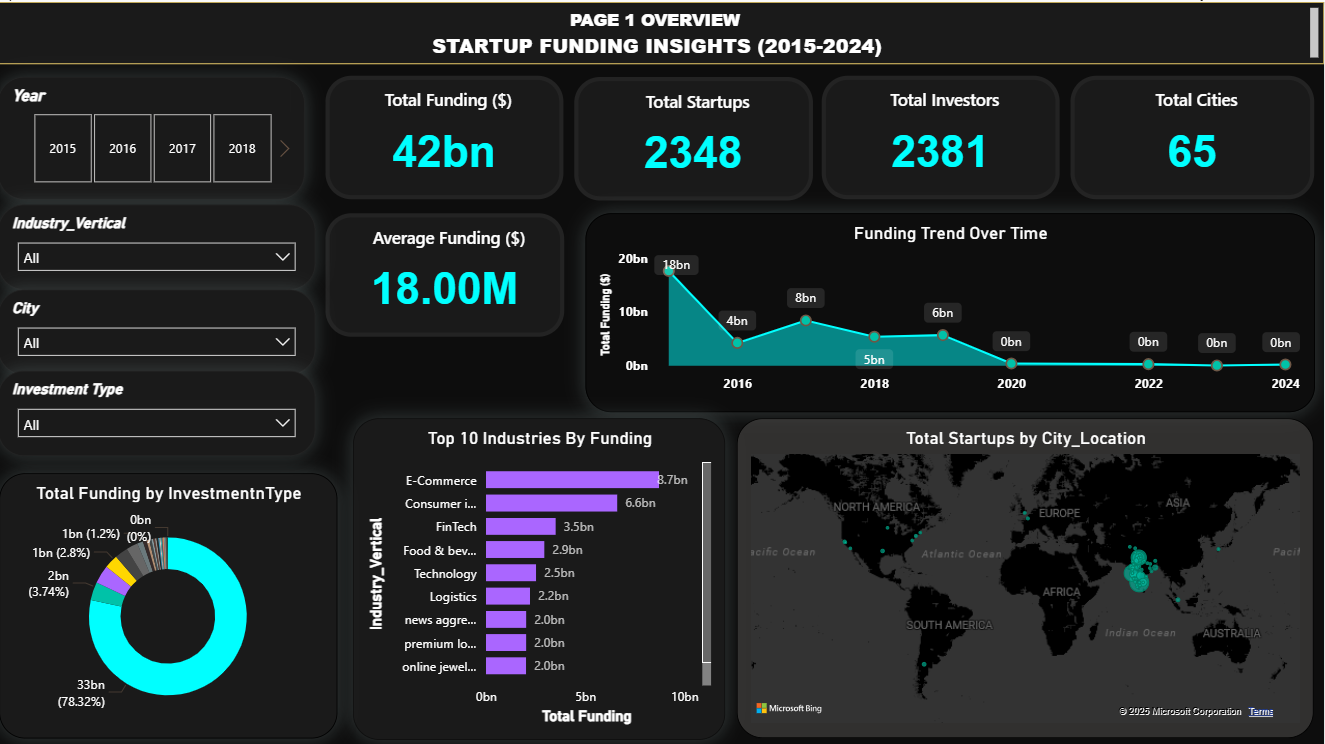

The dashboard page shown, as its layout file describes it:
{"tool":"powerbi","page":{"name":"Startup Funding Overview Dashboard","canvas":[1280,720],"ordinal":0},"visuals":[{"type":"card","title":"Total Funding ($)","fields":{"Values":["cleaned_startup_funding_2015_2024_raw.Total Funding"]},"box":[316.1,71.2,229.2,119.4],"z":0},{"type":"textbox","box":[0,0,1280.3,60.4],"z":1000},{"type":"card","title":"Total Startups","fields":{"Values":["cleaned_startup_funding_2015_2024_raw.Total Startups"]},"box":[555.7,72.7,230,119.4],"z":2000},{"type":"card","title":"Total Investors","fields":{"Values":["cleaned_startup_funding_2015_2024_raw.Total Investors"]},"box":[795,71.2,229.2,119.4],"z":3000},{"type":"card","title":"Average Funding ($)","fields":{"Values":["cleaned_startup_funding_2015_2024_raw.Avg Funding Per Startup"]},"box":[316.1,203.9,230.4,119.4],"z":4000},{"type":"card","title":"Total Cities","fields":{"Values":["cleaned_startup_funding_2015_2024_raw.Total Cities"]},"box":[1035.1,71.2,235.3,119.4],"z":5000},{"type":"lineChart","title":"Funding Trend Over Time","fields":{"Category":["DateTable.Year"],"Y":["cleaned_startup_funding_2015_2024_raw.Total Funding"]},"box":[566.7,204.5,703.9,192.1],"z":6000},{"type":"clusteredBarChart","title":"Top 10 Industries By Funding","fields":{"Category":["cleaned_startup_funding_2015_2024_raw.Industry_Vertical"],"Y":["cleaned_startup_funding_2015_2024_raw.Total Funding"]},"box":[343.1,402.1,359.5,310.1],"z":7000},{"type":"map","fields":{"Category":["cleaned_startup_funding_2015_2024_raw.City_Location"],"Size":["cleaned_startup_funding_2015_2024_raw.Total Startups"]},"box":[713.6,402.1,557.1,308.7],"z":8000},{"type":"donutChart","fields":{"Category":["cleaned_startup_funding_2015_2024_raw.InvestmentnType"],"Y":["cleaned_startup_funding_2015_2024_raw.Total Funding"]},"box":[1.2,455,326.2,256.2],"z":9000},{"type":"slicer","title":"Year","fields":{"Values":["cleaned_startup_funding_2015_2024_raw.Year"]},"box":[0,72.7,296.4,118],"z":10000},{"type":"slicer","title":"Industry_Vertical","fields":{"Values":["cleaned_startup_funding_2015_2024_raw.Industry_Vertical"]},"box":[0,194.9,306,82.3],"z":11000},{"type":"slicer","title":"City","fields":{"Values":["cleaned_startup_funding_2015_2024_raw.City_Location"]},"box":[0,277.2,306,82.3],"z":12000},{"type":"slicer","title":"Investment Type","fields":{"Values":["cleaned_startup_funding_2015_2024_raw.InvestmentnType"]},"box":[0,355.4,306,82.3],"z":13000}]}

Visuals, with their boxes in screenshot pixels (x1, y1, x2, y2), scaled from the page's 1280x720 canvas onto the 1325x744 screenshot:
"Total Funding ($)" card: <region>327, 74, 564, 197</region>
textbox: <region>0, 0, 1324, 62</region>
"Total Startups" card: <region>575, 75, 813, 199</region>
"Total Investors" card: <region>823, 74, 1060, 197</region>
"Average Funding ($)" card: <region>327, 211, 566, 334</region>
"Total Cities" card: <region>1071, 74, 1315, 197</region>
"Funding Trend Over Time" lineChart: <region>587, 211, 1315, 410</region>
"Top 10 Industries By Funding" clusteredBarChart: <region>355, 416, 727, 736</region>
map - cleaned_startup_funding_2015_2024_raw.City_Location x cleaned_startup_funding_2015_2024_raw.Total Startups: <region>739, 416, 1315, 734</region>
donutChart - cleaned_startup_funding_2015_2024_raw.InvestmentnType x cleaned_startup_funding_2015_2024_raw.Total Funding: <region>1, 470, 339, 735</region>
"Year" slicer: <region>0, 75, 307, 197</region>
"Industry_Vertical" slicer: <region>0, 201, 317, 286</region>
"City" slicer: <region>0, 286, 317, 371</region>
"Investment Type" slicer: <region>0, 367, 317, 452</region>
